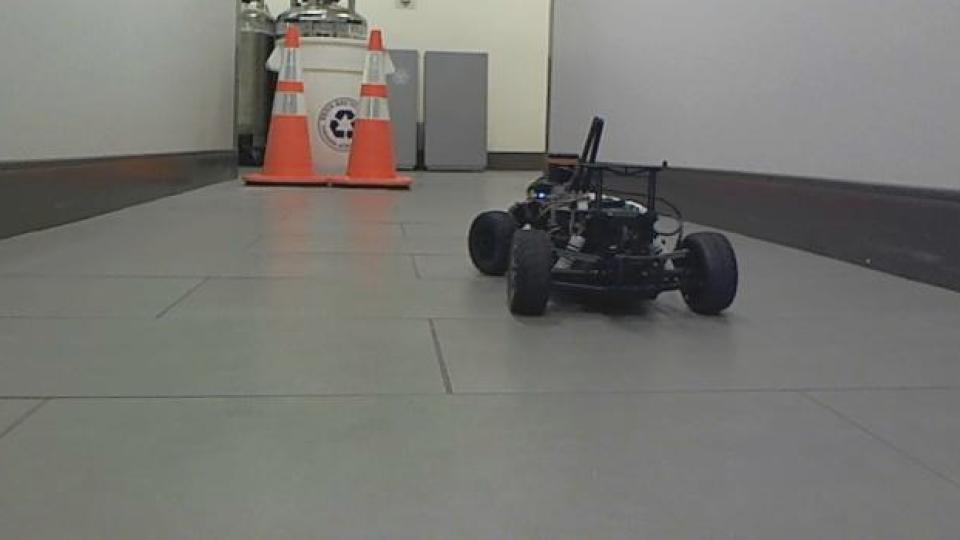car: (463, 113, 741, 321)
